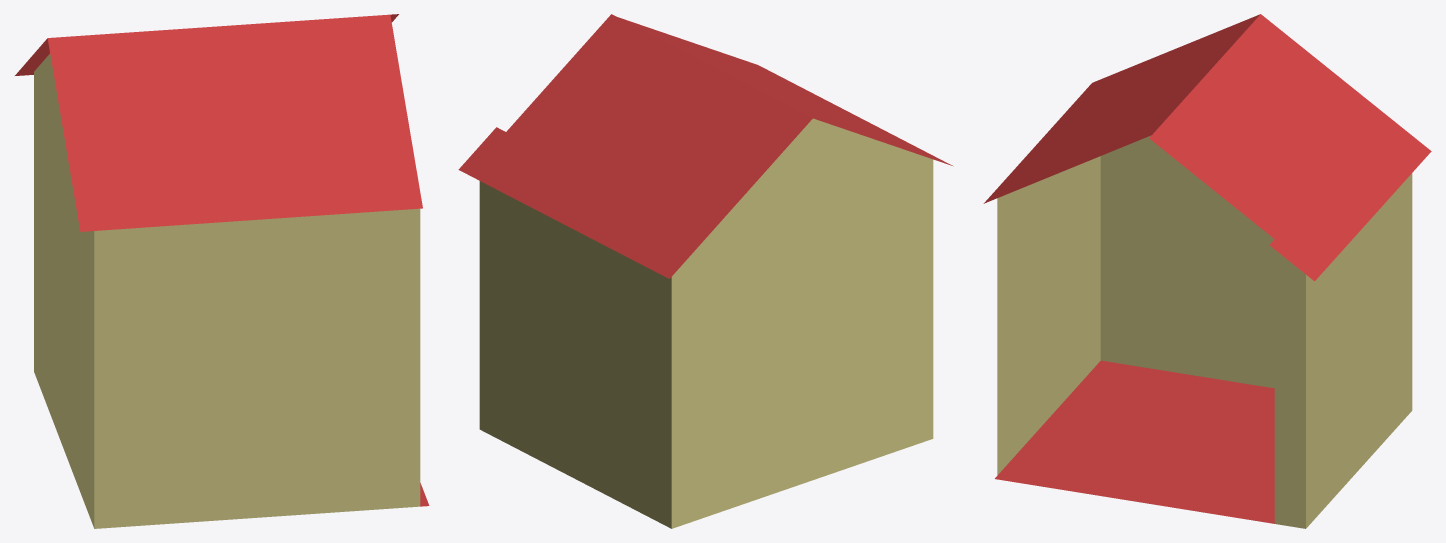
3 views of the same model, side by side, from view 1: azimuth 30°, elevation 25°; view 2: azimuth 150°, elevation 25°; view 3: azimuth 270°, elevation 25° (orthographic). The views are drawn at different scales.
Size of the model in its own units: 14.61 by 14.99 by 13.48.
